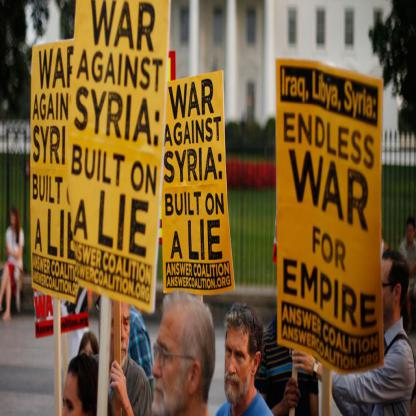face: (152, 314, 193, 413), (225, 324, 252, 400), (105, 297, 131, 366), (376, 262, 395, 323), (63, 373, 84, 416), (82, 342, 97, 381), (409, 224, 416, 243), (13, 213, 17, 226)
